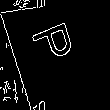P_E: (33, 17, 85, 69)
